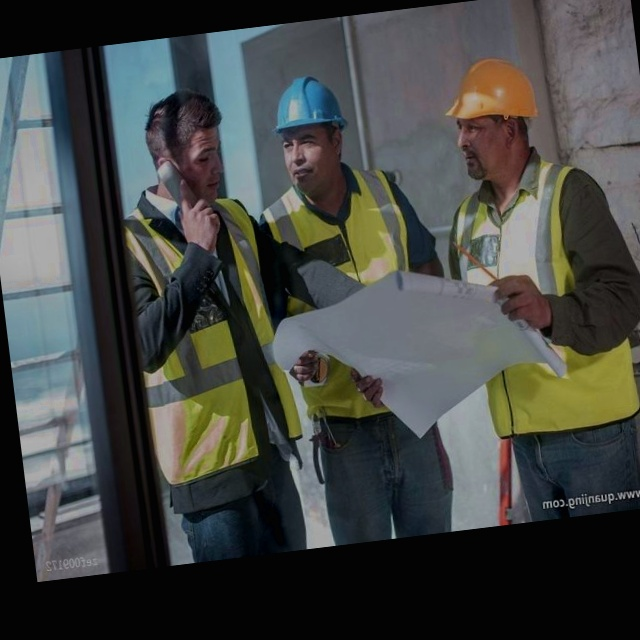Con_Chaleco: (458, 150, 638, 439), (128, 188, 282, 485)
